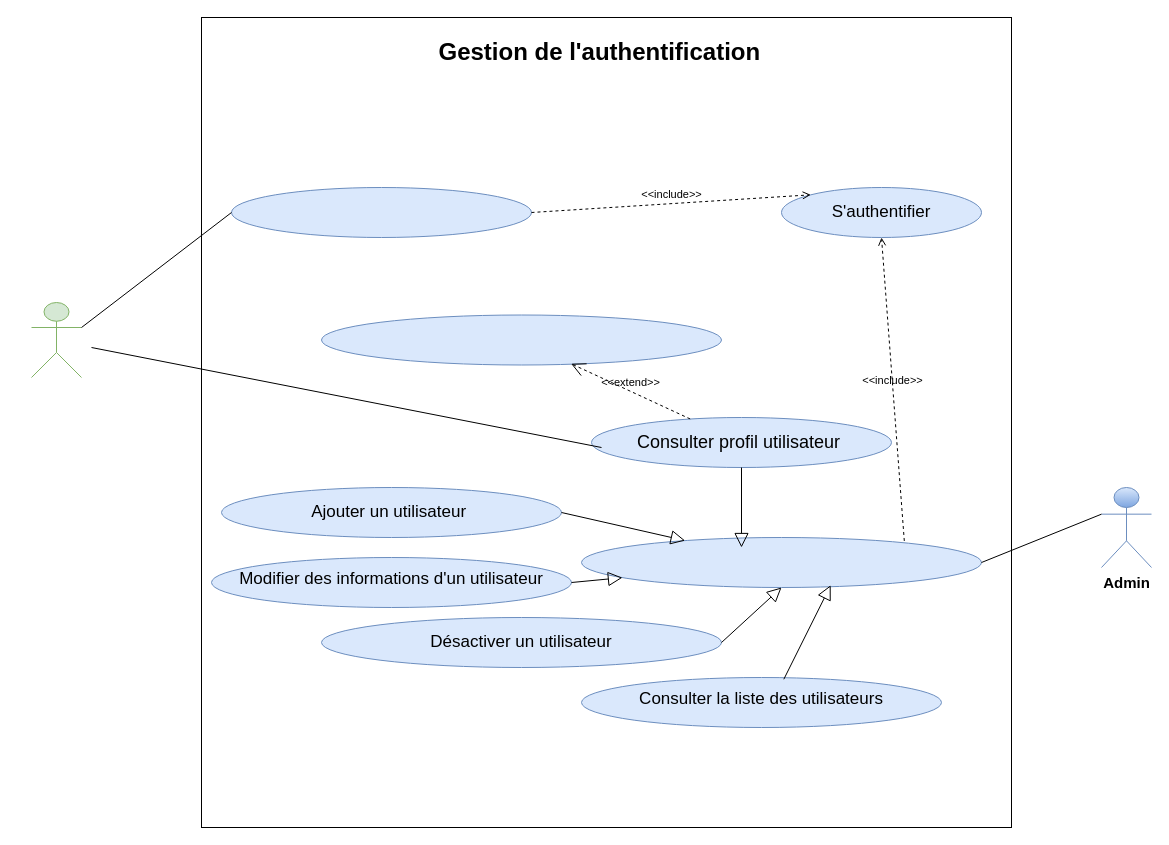
This 1169x845 diagram has some shape labels left out. The shapes that lost their labels are listed below. From the top down, each one's centre as x and y in pixels, then its label:
(381,212): Creer un compte
(56,340): Utilisateur
(521,339): Modifier des informations personnelles
(781,562): Gérer les comptes utilisateurs
